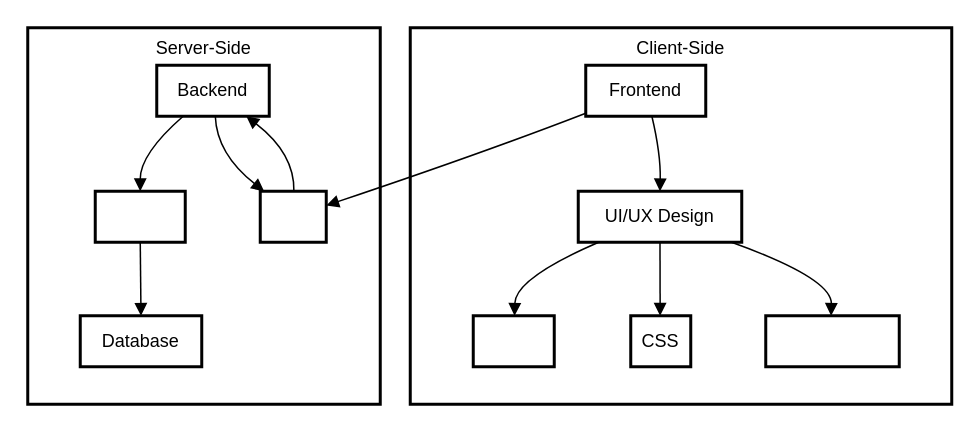
Some shapes in this 978 by 431 pixel diagram are drawn without their labels. The centre of each missing label's shape, as x and y in pixels:
"APIs" goes at [292,216].
"HTML" goes at [513,341].
"JavaScript" goes at [832,341].
"Server" goes at [139,216].
